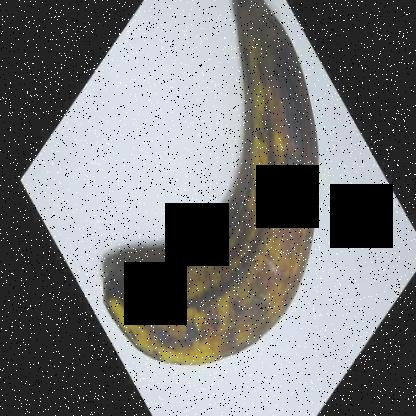overripe: (88, 1, 336, 386)
rotten: (222, 1, 318, 164)
